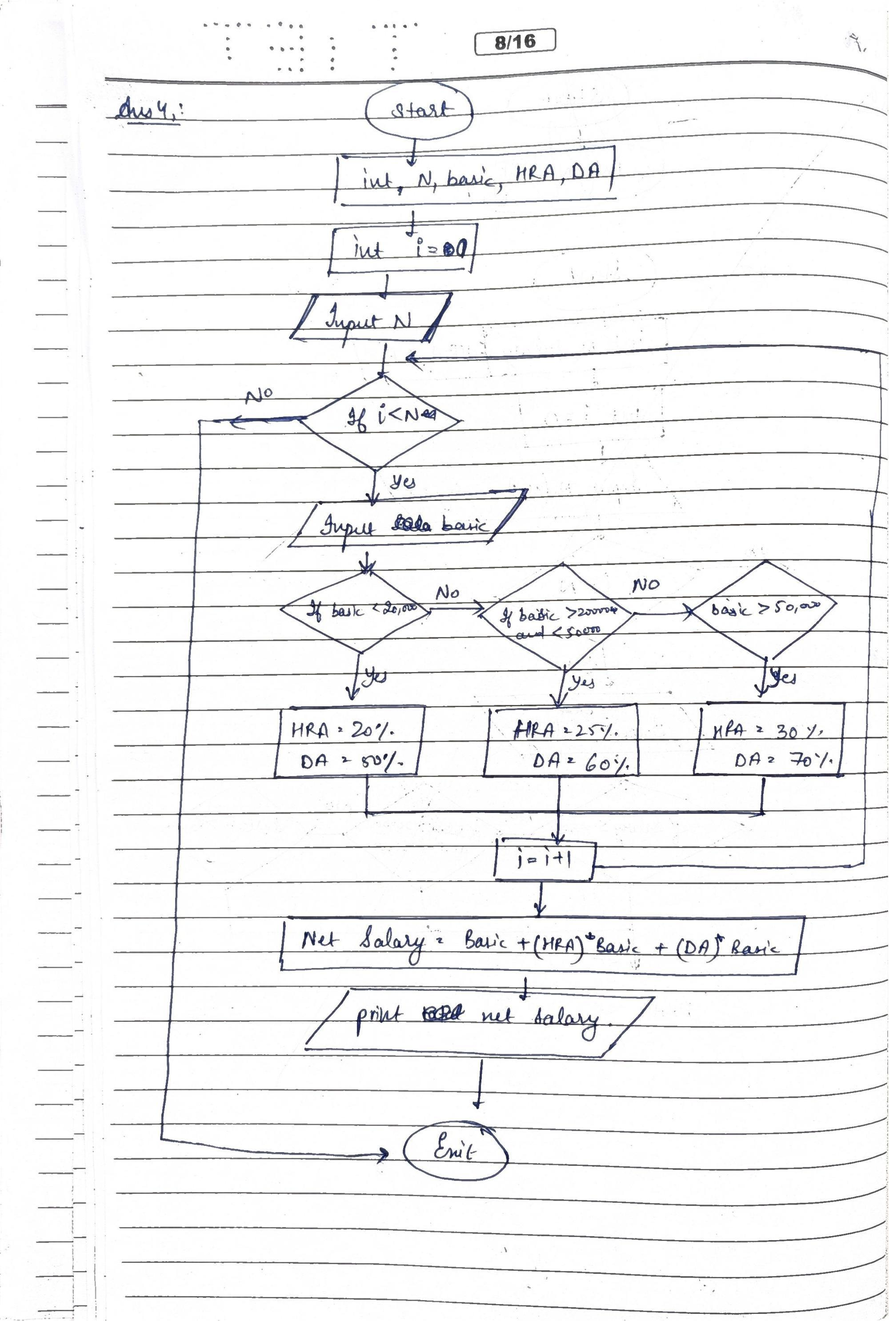cuttings: (422, 1003, 466, 1022), (392, 513, 431, 532), (442, 242, 456, 257)
